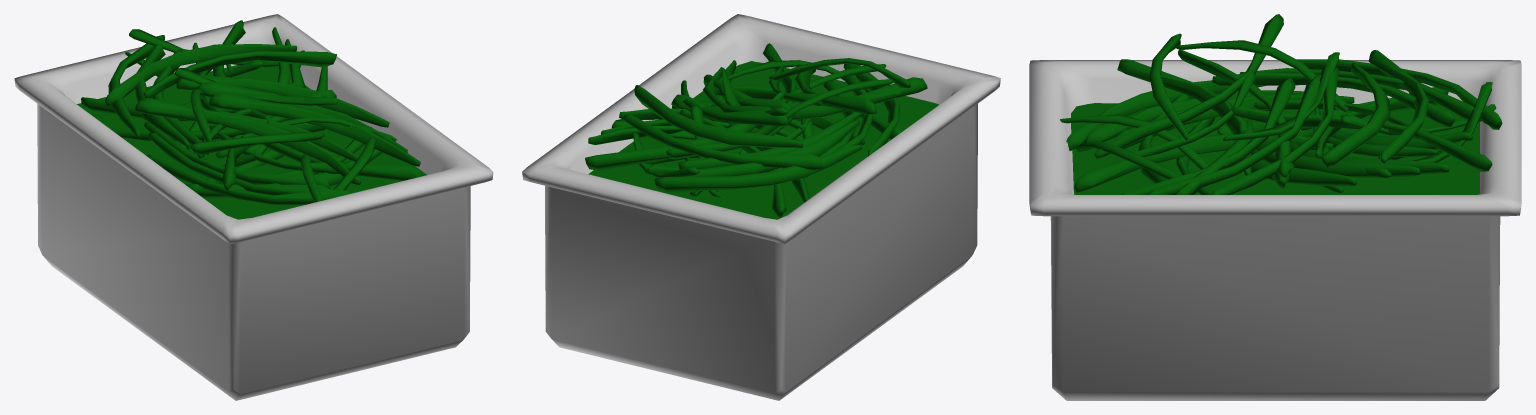
Rendered from pepper_vart.fbx.
3 views of the same model, side by side, from view 1: azimuth 30°, elevation 25°; view 2: azimuth 150°, elevation 25°; view 3: azimuth 270°, elevation 25° (orthographic). The views are drawn at different scales.
Visible parts, largest first — view 1: pepper_vart; view 2: pepper_vart; view 3: pepper_vart.
Part boxes in pixels (x1,y1,x2,y2): pepper_vart: (14,14,493,400); pepper_vart: (522,14,1000,400); pepper_vart: (1029,14,1521,400).
Size of the model in its own units: 9.7 by 8.16 by 13.71.
